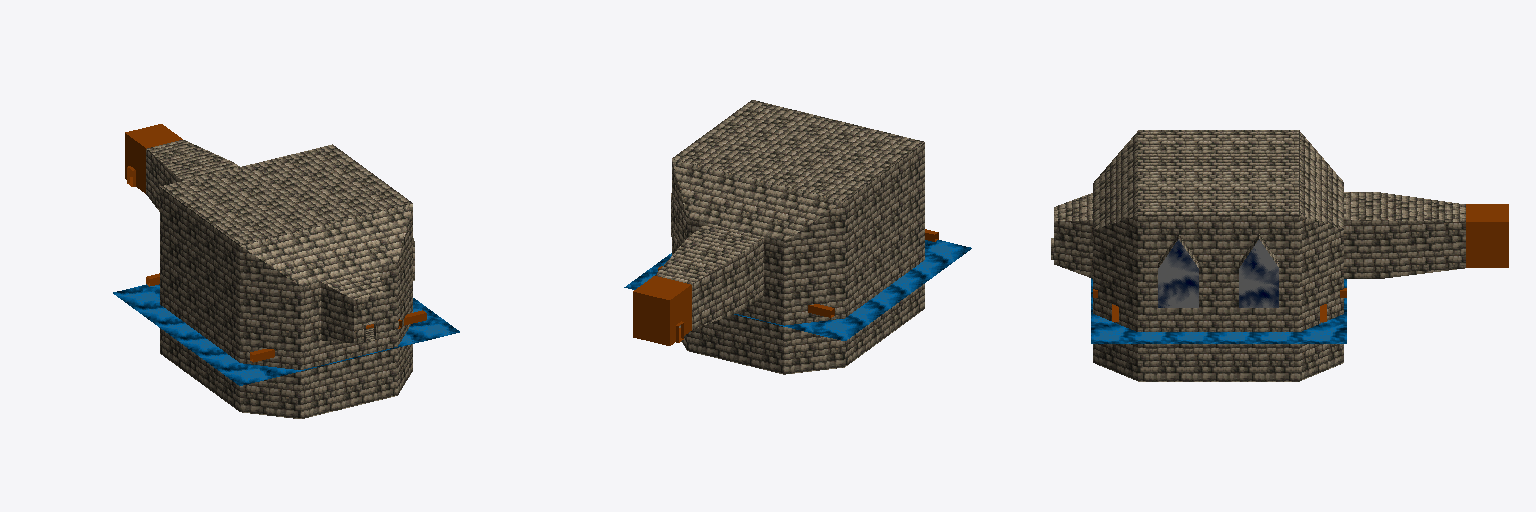
3 views of the same model, side by side, from view 1: azimuth 30°, elevation 25°; view 2: azimuth 150°, elevation 25°; view 3: azimuth 270°, elevation 25° (orthographic).
Visible parts, largest first — view 1: mesh.010__198.008, mesh.010__122.003, mesh.010__237.005; view 2: mesh.010__198.008, mesh.010__122.003, mesh.010__237.005; view 3: mesh.010__198.008, mesh.010__256.006, mesh.010__122.003, mesh.010__237.005.
Boxes of the visible parts, x1=… form: mesh.010__198.008: x1=146, y1=140, x2=414, y2=418; mesh.010__122.003: x1=113, y1=284, x2=459, y2=385; mesh.010__237.005: x1=125, y1=124, x2=426, y2=362; mesh.010__198.008: x1=655, y1=100, x2=924, y2=374; mesh.010__122.003: x1=624, y1=240, x2=971, y2=340; mesh.010__237.005: x1=633, y1=229, x2=938, y2=345; mesh.010__198.008: x1=1051, y1=130, x2=1465, y2=381; mesh.010__256.006: x1=1158, y1=239, x2=1278, y2=307; mesh.010__122.003: x1=1091, y1=278, x2=1346, y2=343; mesh.010__237.005: x1=1093, y1=204, x2=1508, y2=321.
Size of the model in its own units: 1377 by 991 by 2472.
Materials: 6 (5 with a texture image).